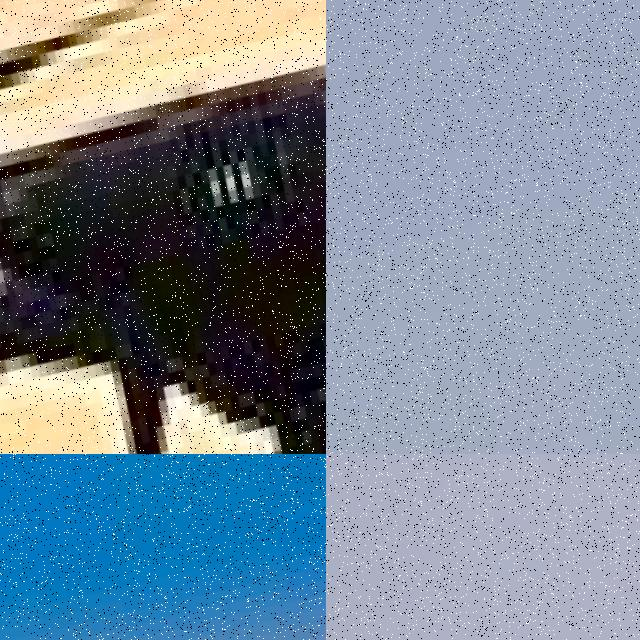drone: (0, 0, 326, 454), (0, 454, 326, 640)
